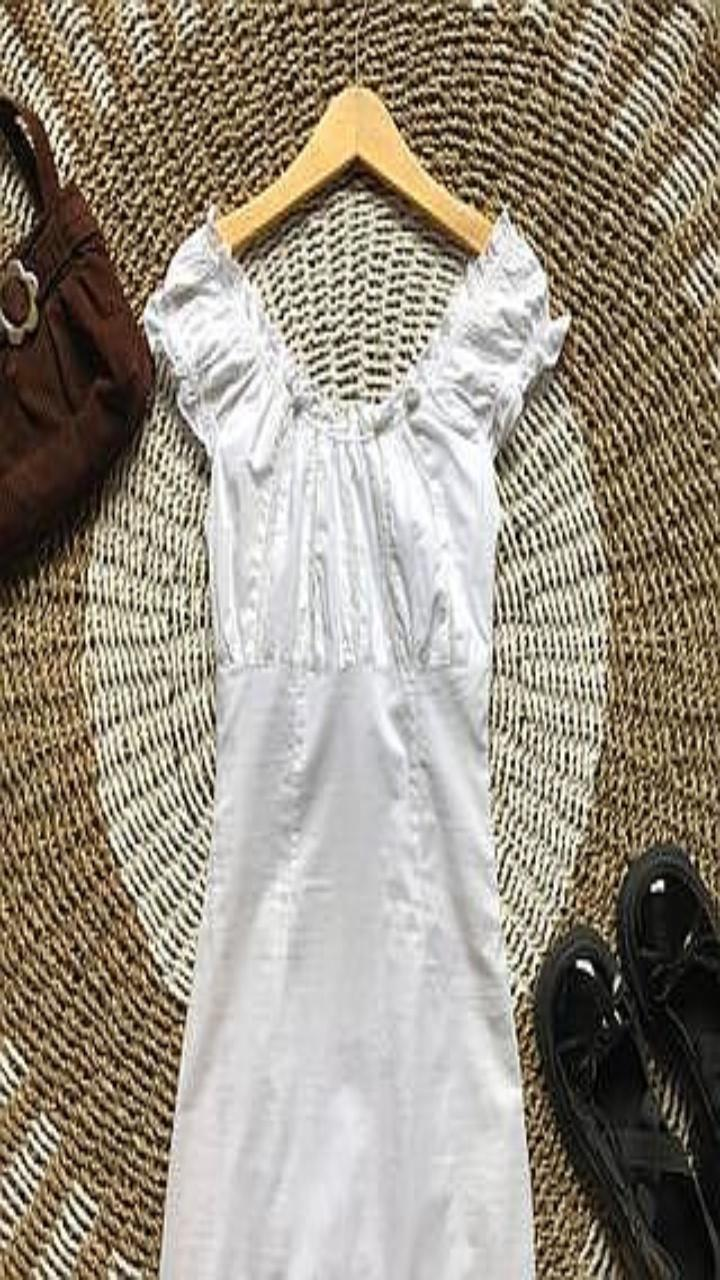Dresses: (145, 209, 569, 1279)
